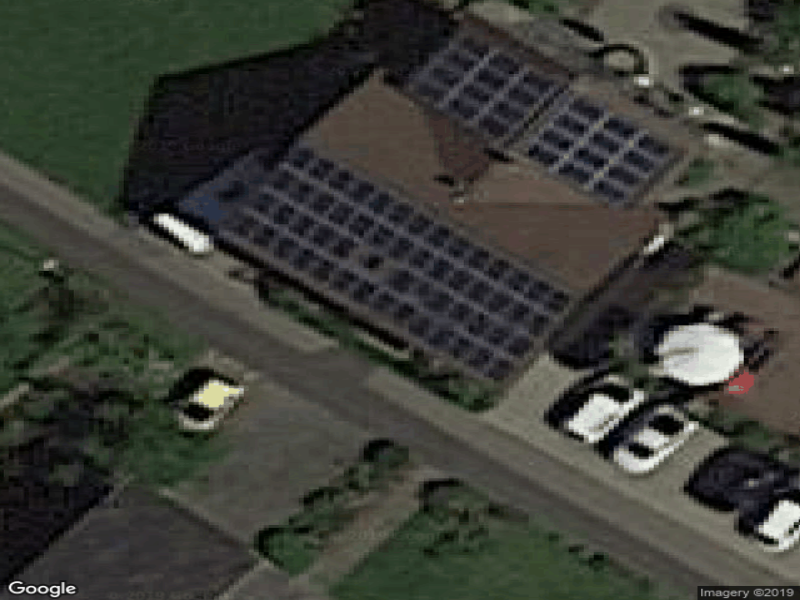pv: (225, 146, 572, 390), (414, 36, 681, 209)
